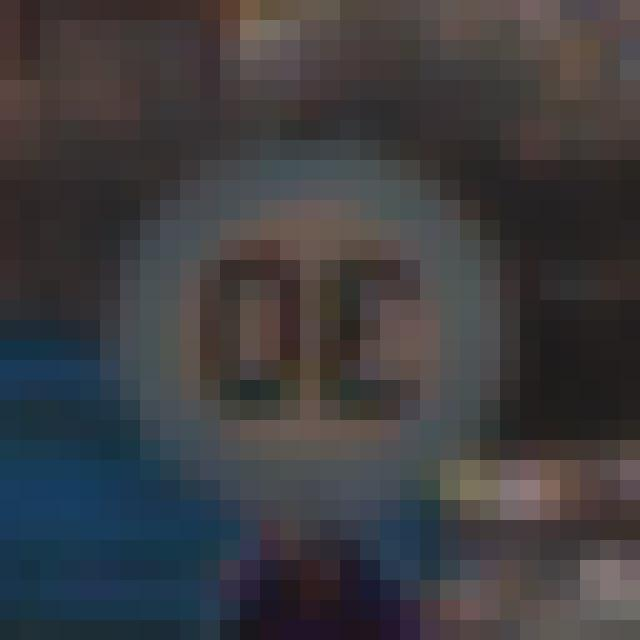SPEED LIMIT 30: (120, 194, 462, 526)
